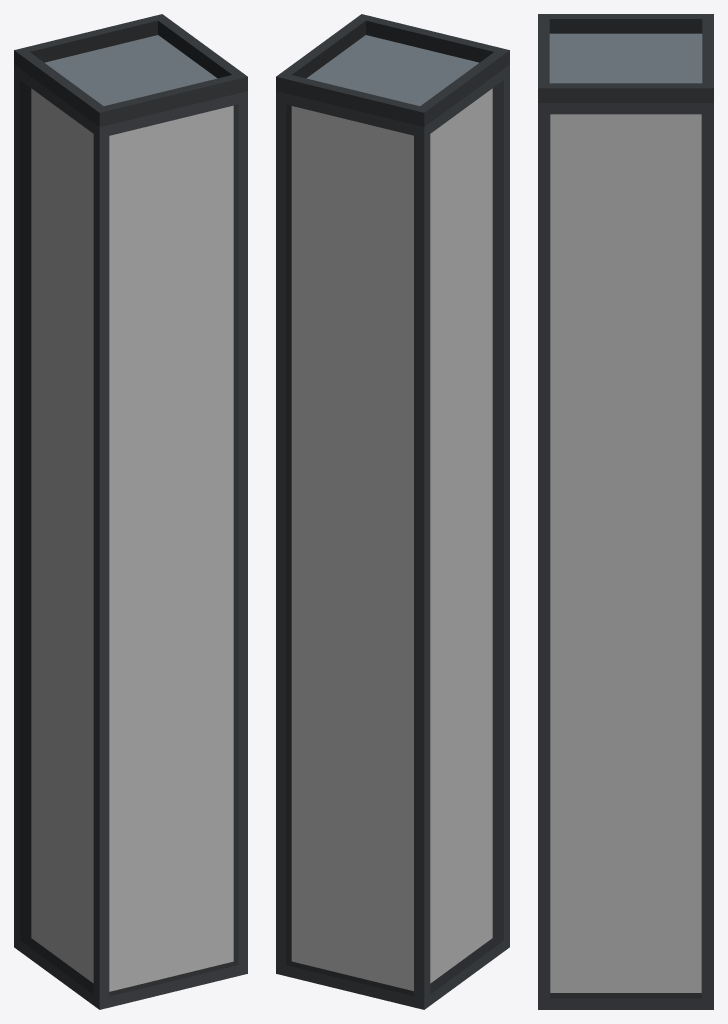
File: SM_Bld_Highrise_06.fbx
3 renders of one model, left to right at view 1: azimuth 30°, elevation 25°; view 2: azimuth 150°, elevation 25°; view 3: azimuth 270°, elevation 25°, orthographic. The views are drawn at different scales.
Parts seen in each view (by area): view 1: SM_Bld_Highrise_06; view 2: SM_Bld_Highrise_06; view 3: SM_Bld_Highrise_06.
Part boxes in pixels (box(x1,y1,x2,y2)): SM_Bld_Highrise_06: box(14, 14, 247, 1009); SM_Bld_Highrise_06: box(276, 14, 509, 1009); SM_Bld_Highrise_06: box(538, 14, 713, 1009).
Bounding box in the file's own units: 25.93 × 150 × 25.93.
